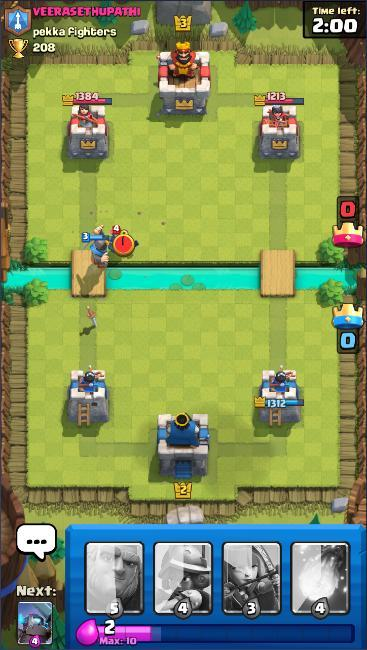ally_knight: (81, 223, 114, 271)
enemy_mini_pekka: (95, 223, 142, 259)
